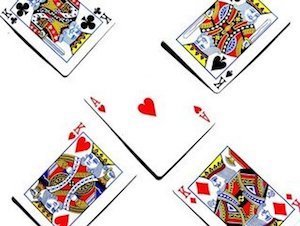AceOfHearts: (85, 55, 214, 157)
KingOfClubs: (1, 2, 119, 77)
KingOfDiamonds: (163, 145, 300, 223)
KingOfHearts: (16, 120, 125, 224)
KingOfSpades: (161, 3, 291, 92)
